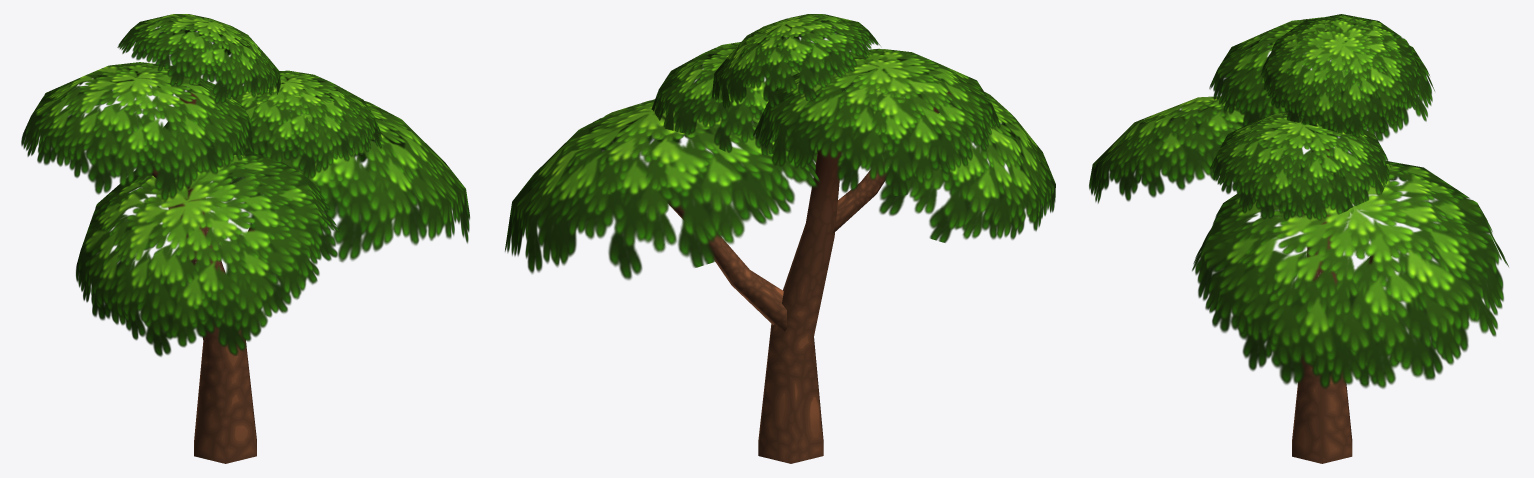
The model's file is Tree3.glb.
The picture shows the model from 3 angles, left to right: view 1: azimuth 30°, elevation 25°; view 2: azimuth 150°, elevation 25°; view 3: azimuth 270°, elevation 25°; orthographic projection. The views are drawn at different scales.
Visible parts, largest first — view 1: Tree_03a; view 2: Tree_03a; view 3: Tree_03a.
Part boxes in pixels (x1=…): Tree_03a: x1=21, y1=14, x2=469, y2=463; Tree_03a: x1=505, y1=14, x2=1055, y2=463; Tree_03a: x1=1089, y1=14, x2=1508, y2=463.
Bounding box in the file's own units: 139 × 131 × 126.
1 material, 1 textured.
